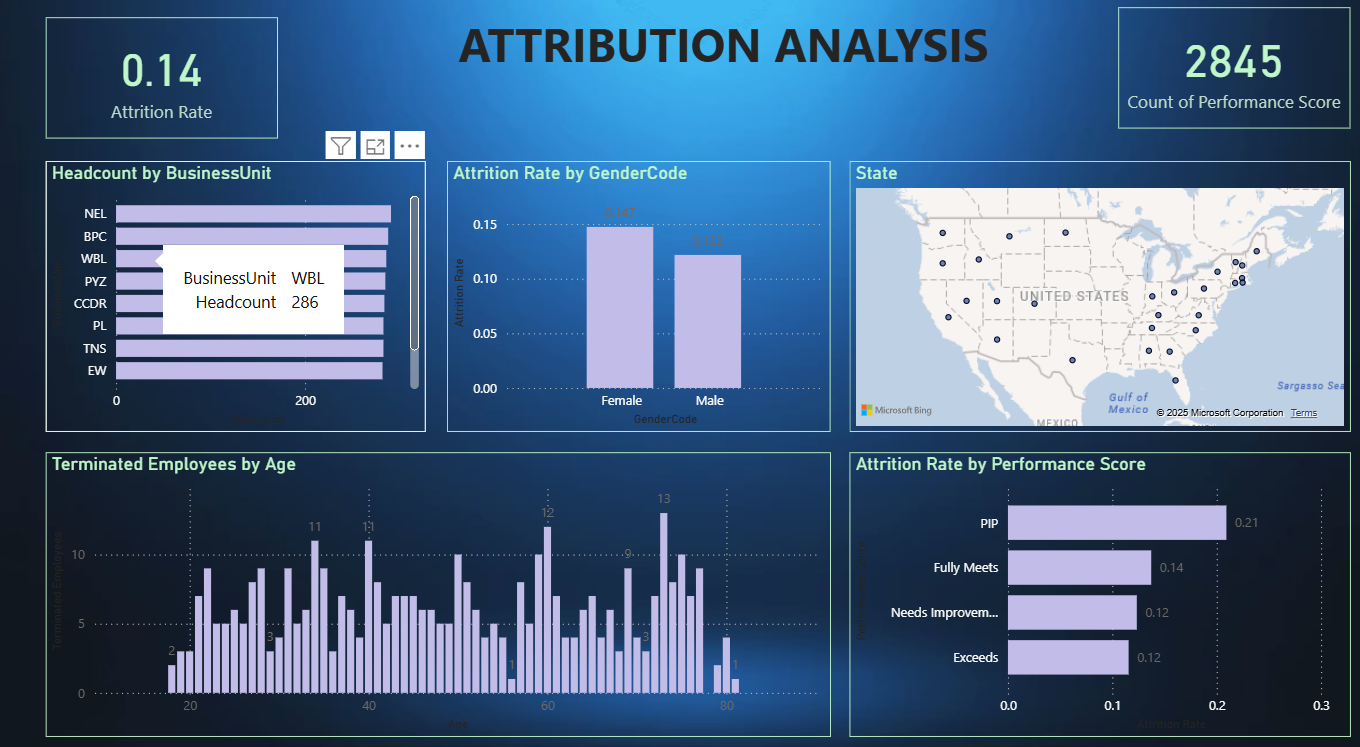

The page's visual inventory and layout, read from the dashboard file:
{"tool":"powerbi","page":{"name":"ATTRIBUTION ANALYSIS","canvas":[1280,720],"ordinal":1},"visuals":[{"type":"card","fields":{"Values":["HR.Attrition Rate"]},"box":[50,28.8,216.2,112.5],"z":0},{"type":"clusteredBarChart","fields":{"Y":["HR.Headcount"],"Category":["HR.BusinessUnit"]},"box":[50,162.8,353.5,252.3],"z":1000},{"type":"clusteredColumnChart","fields":{"Category":["HR.Age"],"Y":["HR.Terminated Employees"]},"box":[50,433.8,730,265],"z":2000},{"type":"clusteredColumnChart","fields":{"Category":["HR.GenderCode"],"Y":["HR.Attrition Rate"]},"box":[423.3,162.8,357,252.3],"z":3000},{"type":"barChart","fields":{"Y":["HR.Attrition Rate"],"Category":["HR.Performance Score"]},"box":[797.7,433.7,466.3,265.1],"z":4000},{"type":"map","fields":{"Category":["HR.State"]},"box":[797.7,162.8,466.3,252.3],"z":5000},{"type":"textbox","box":[343.8,20,672.5,82.5],"z":6000},{"type":"card","fields":{"Values":["CountNonNull(HR.Performance Score)"]},"box":[1047.7,19.8,216.3,112.8],"z":7000}]}

Visuals, with their boxes in screenshot pixels (x1, y1, x2, y2), scaled from the page's 1280x720 canvas onto the 1360x747 screenshot:
card - HR.Attrition Rate: <region>53, 30, 283, 147</region>
clusteredBarChart - HR.Headcount x HR.BusinessUnit: <region>53, 169, 429, 431</region>
clusteredColumnChart - HR.Age x HR.Terminated Employees: <region>53, 450, 829, 725</region>
clusteredColumnChart - HR.GenderCode x HR.Attrition Rate: <region>450, 169, 829, 431</region>
barChart - HR.Attrition Rate x HR.Performance Score: <region>848, 450, 1343, 725</region>
map - HR.State: <region>848, 169, 1343, 431</region>
textbox: <region>365, 21, 1080, 106</region>
card - CountNonNull(HR.Performance Score): <region>1113, 21, 1343, 138</region>
